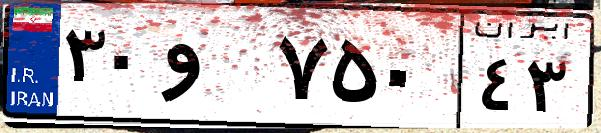0: (385, 28, 445, 110), (110, 28, 158, 98)
3: (57, 26, 110, 100), (525, 38, 570, 115)
4: (475, 38, 525, 113)
5: (330, 28, 385, 110)
7: (270, 28, 330, 110)
و: (158, 20, 270, 120)
